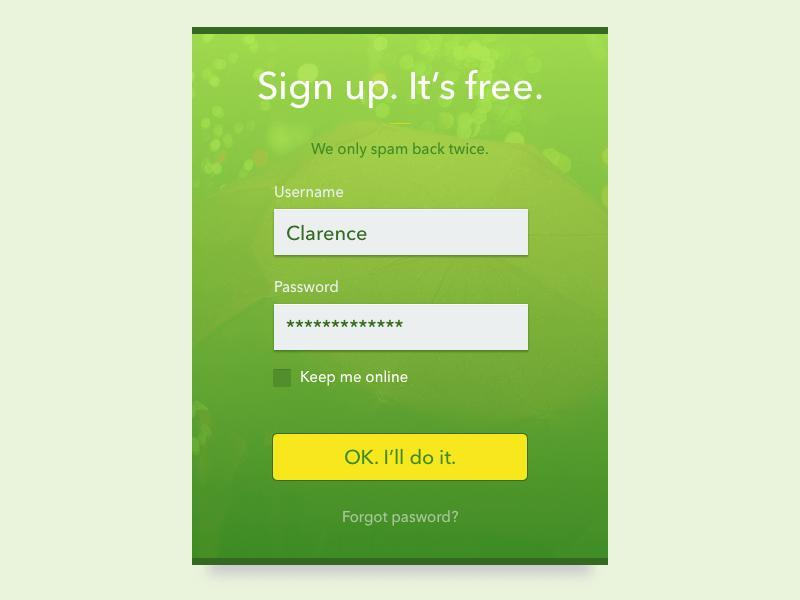button: (275, 437, 528, 483)
checkbox: (273, 372, 294, 388)
input: (274, 302, 529, 352), (274, 209, 530, 258)
label: (302, 370, 415, 388), (270, 184, 349, 202), (274, 278, 343, 296)
